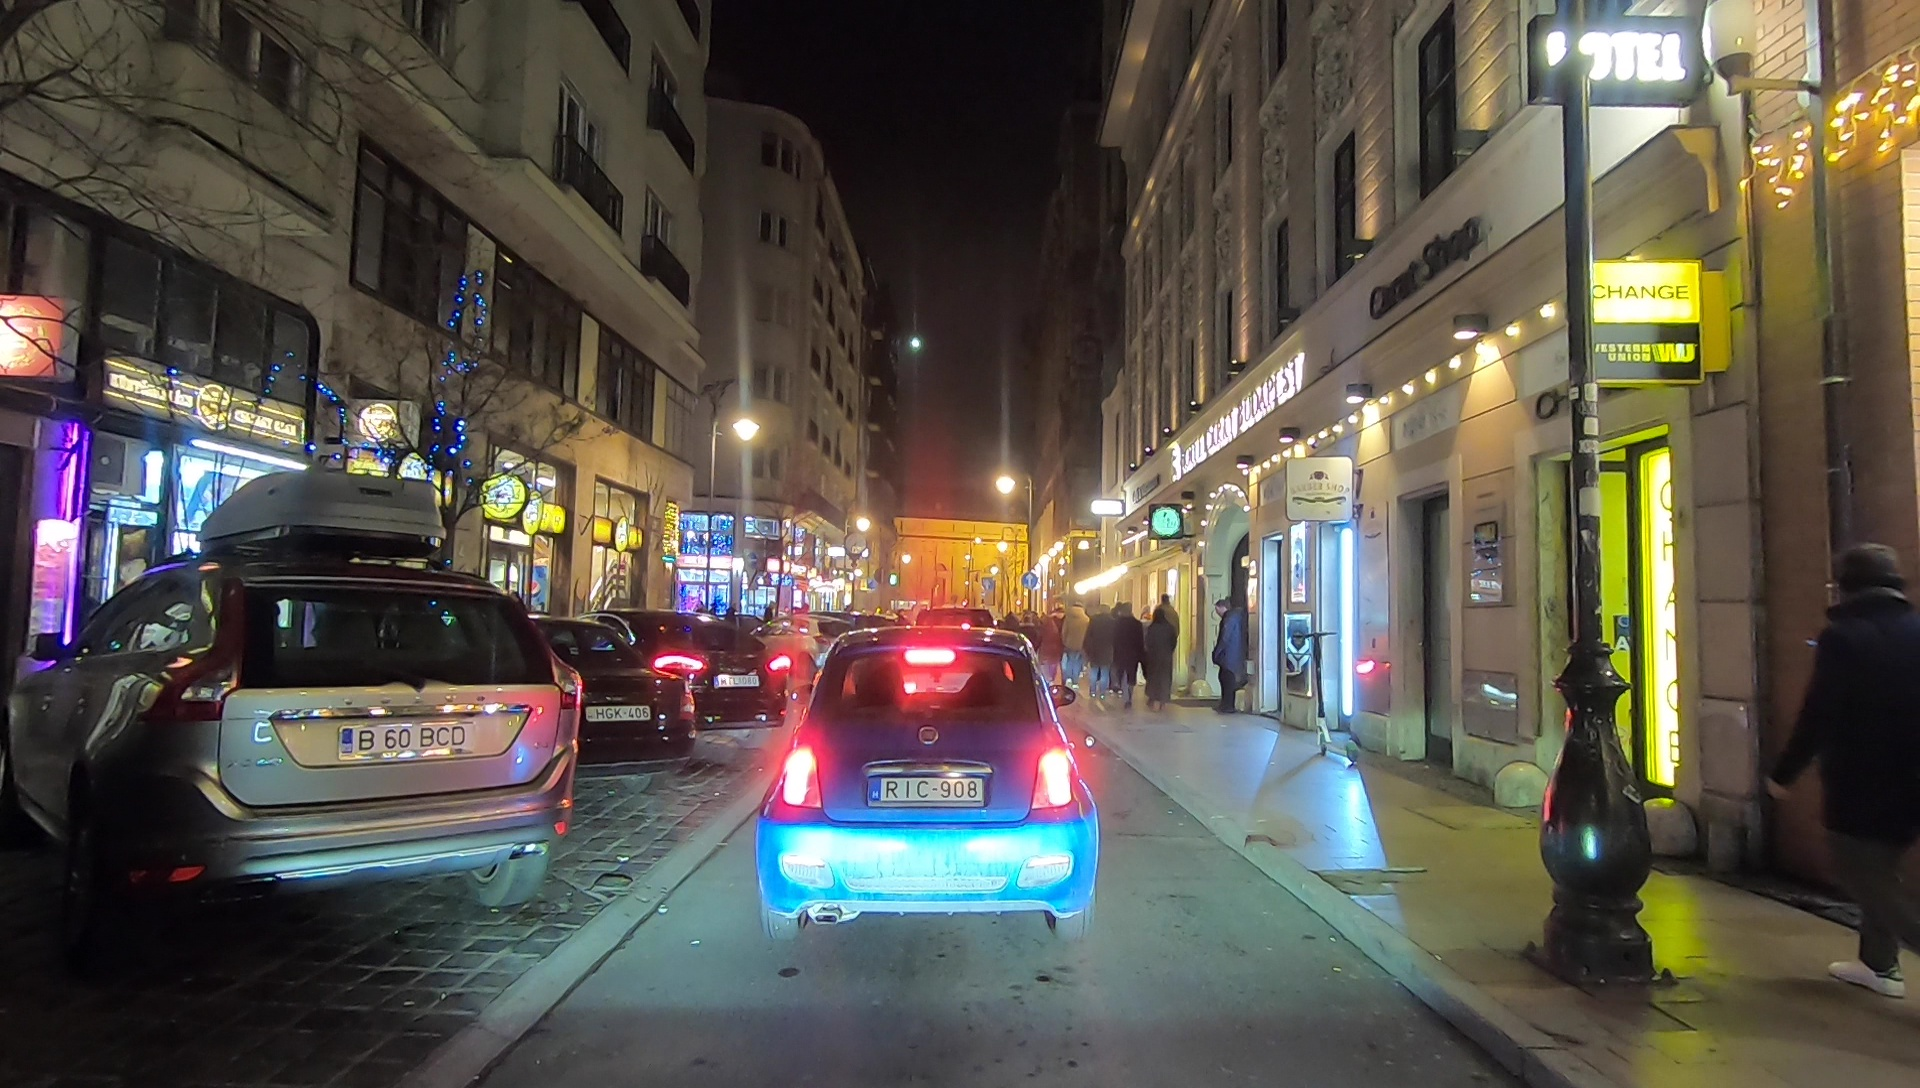person: (1764, 541, 1920, 988), (1211, 601, 1244, 714), (1148, 609, 1179, 711), (1058, 602, 1090, 688), (1114, 603, 1141, 711), (1088, 603, 1114, 703), (1153, 596, 1180, 691), (1037, 610, 1063, 698), (1019, 617, 1037, 682)
